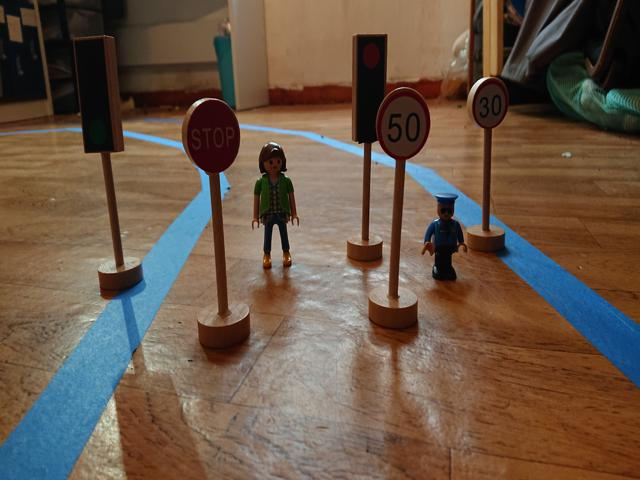30 speed sign: (472, 76, 508, 129)
50 speed sign: (376, 88, 430, 161)
green light: (76, 43, 111, 151)
person: (252, 141, 300, 272), (423, 194, 469, 285)
red light: (355, 36, 381, 126)
stop sign: (187, 99, 240, 169)
